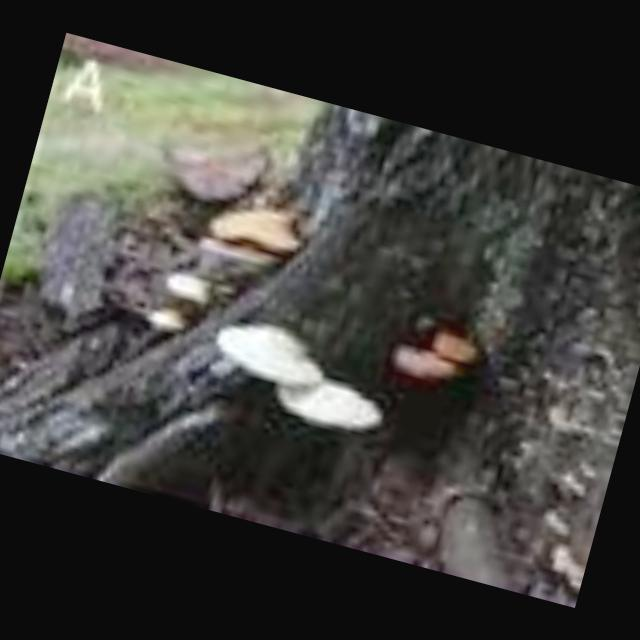ganoderma: (196, 193, 318, 281), (209, 315, 338, 396), (271, 366, 391, 445), (387, 341, 466, 390), (163, 265, 242, 314), (432, 332, 489, 371)
primordium: (143, 303, 195, 340)
